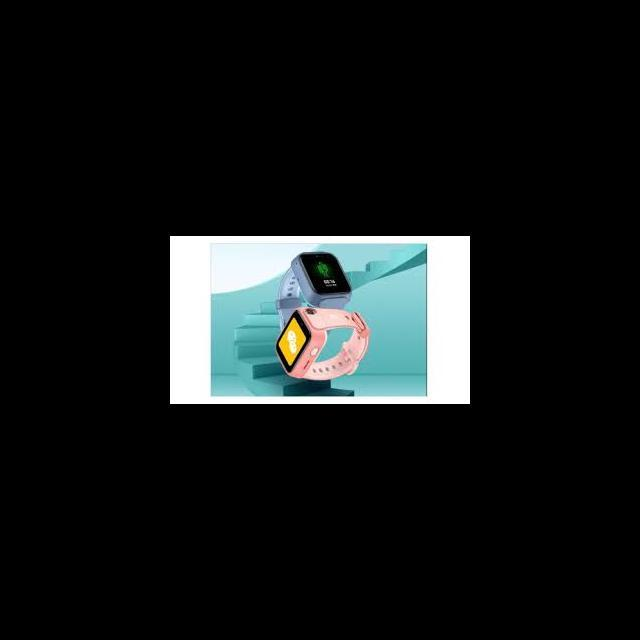watch: (273, 305, 380, 400), (253, 245, 382, 308)
